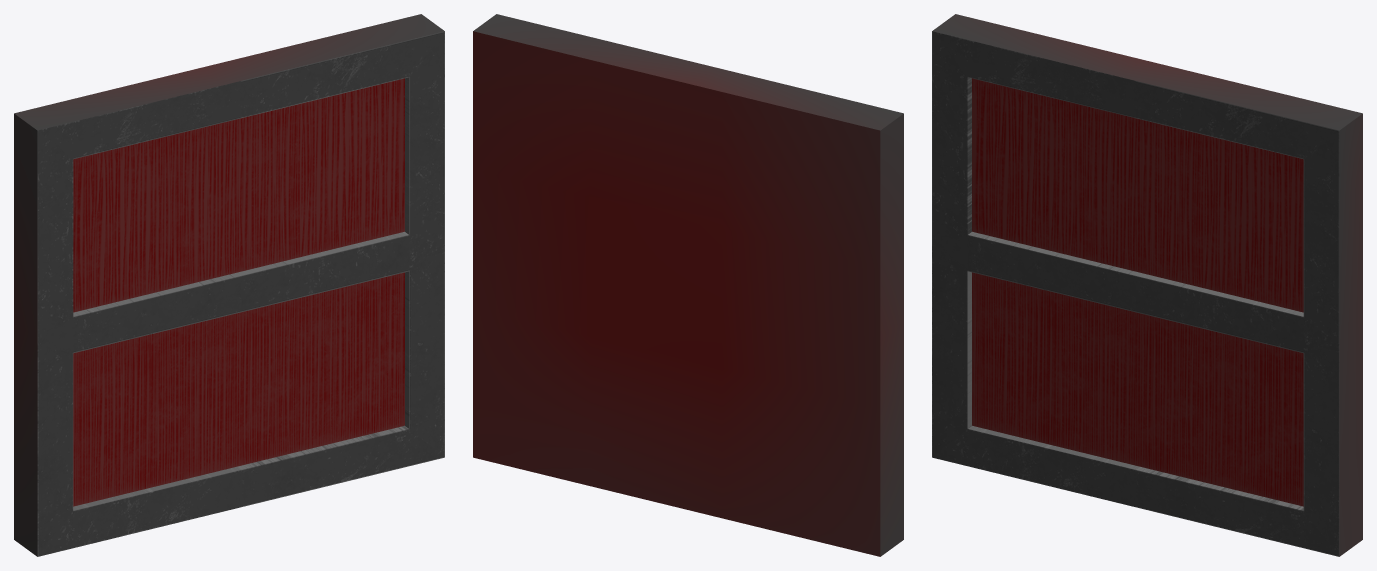
File: cable_panel.glb
3 renders of one model, left to right at view 1: azimuth 30°, elevation 25°; view 2: azimuth 150°, elevation 25°; view 3: azimuth 330°, elevation 25°, orthographic.
Parts seen in each view (by area): view 1: panel_low; view 2: panel_low; view 3: panel_low.
Boxes of the visible parts, x1,y1,x2,y2 form: panel_low: (14,14,444,556); panel_low: (473,14,903,556); panel_low: (932,14,1362,556).
Bounding box in the file's own units: 2 × 2 × 0.2.
Materials: 1 (1 with a texture image).
